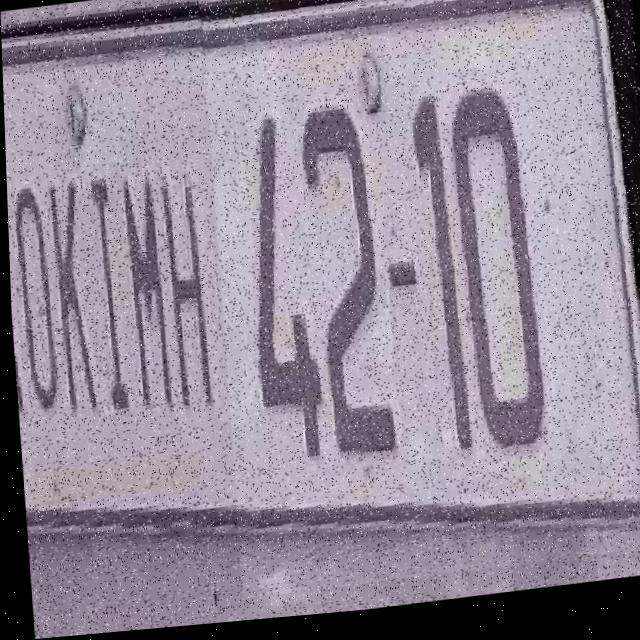LicensePlate: (199, 0, 640, 603)
